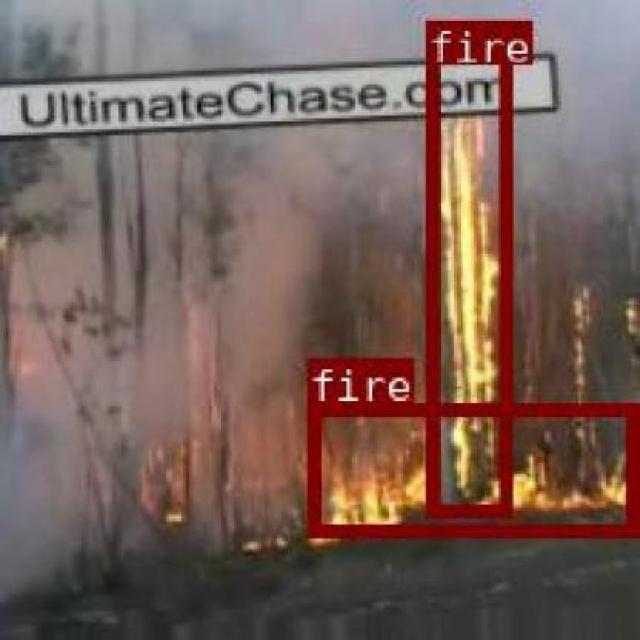fire: (304, 401, 634, 534), (424, 18, 508, 516)
